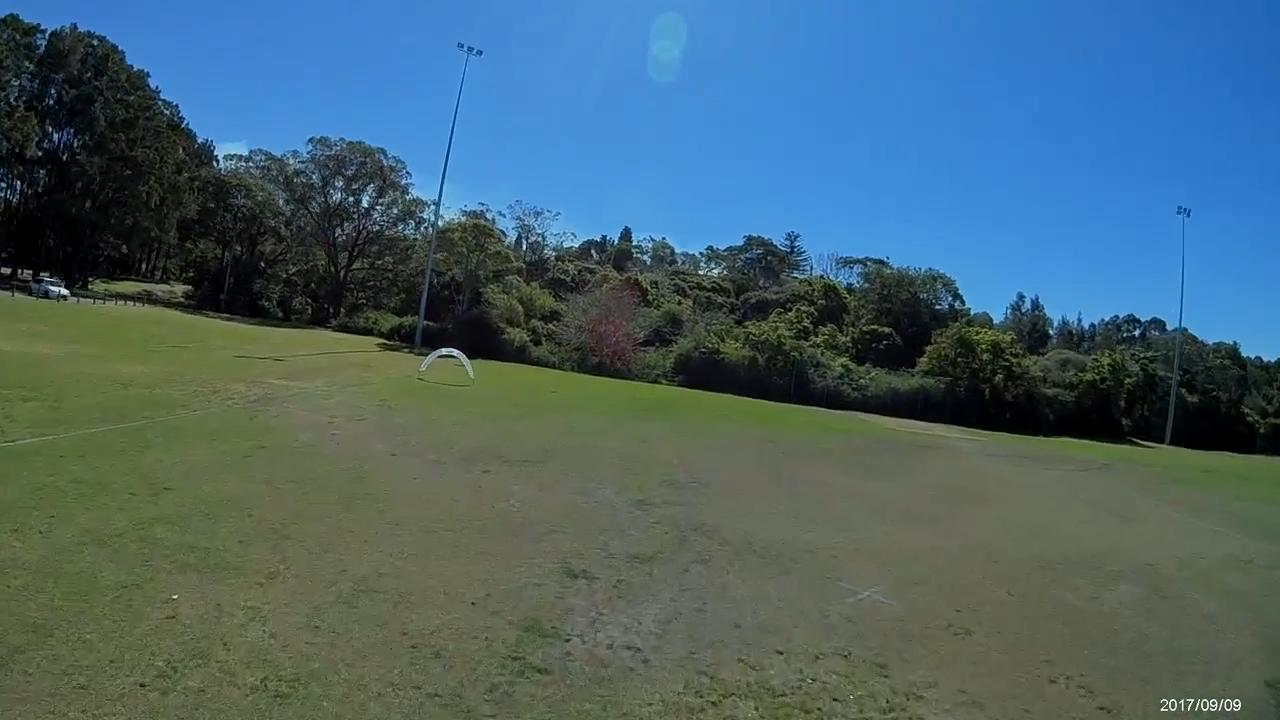gate: (419, 346, 472, 379)
